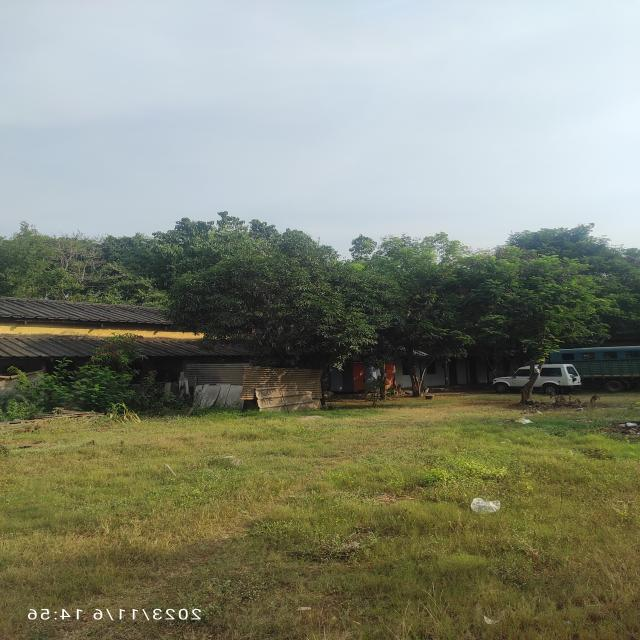Mango Tree: (187, 263, 389, 356)
